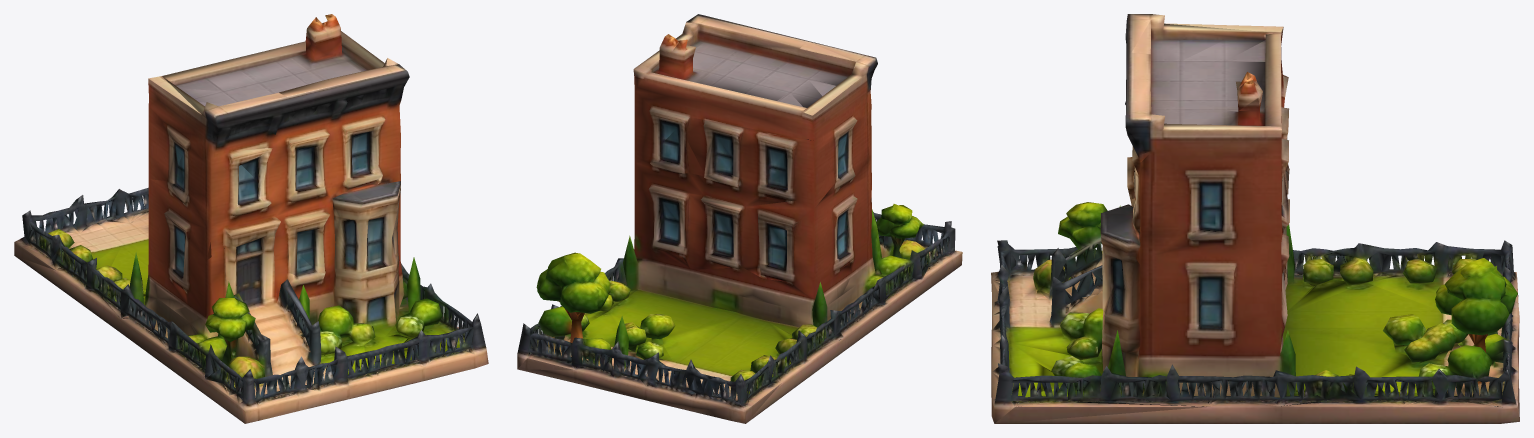
Rendered from house-townhouse.glb.
3 views of the same model, side by side, from view 1: azimuth 30°, elevation 25°; view 2: azimuth 150°, elevation 25°; view 3: azimuth 270°, elevation 25° (orthographic). The views are drawn at different scales.
Parts seen in each view (by area): view 1: low; view 2: low; view 3: low.
Part boxes in pixels (x1,y1,x2,y2): low: [14, 14, 488, 423]; low: [517, 14, 962, 423]; low: [991, 14, 1519, 423].
Size of the model in its own units: 0.5965 by 0.6461 by 0.9793.
Materials: 1 (1 with a texture image).
